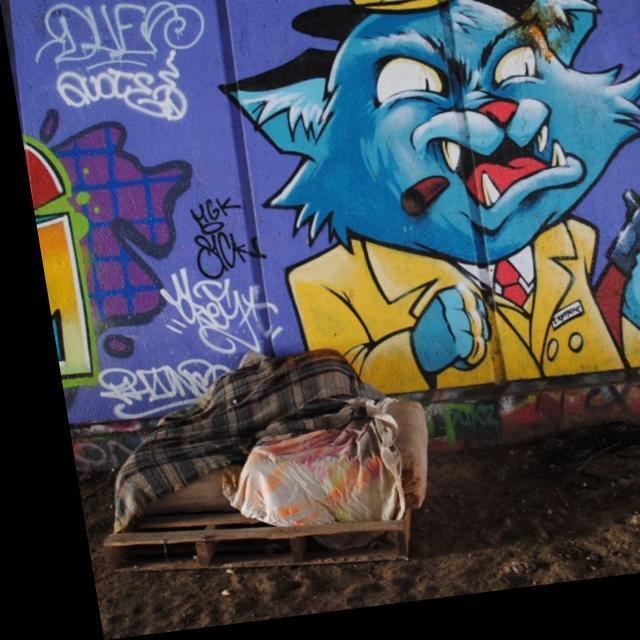-: (212, 0, 640, 424), (34, 0, 210, 133), (82, 357, 208, 417), (175, 196, 258, 282)
